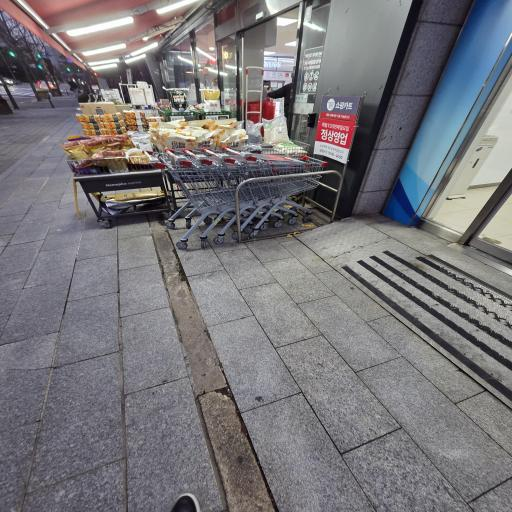combined_cart: (160, 150, 347, 247)
